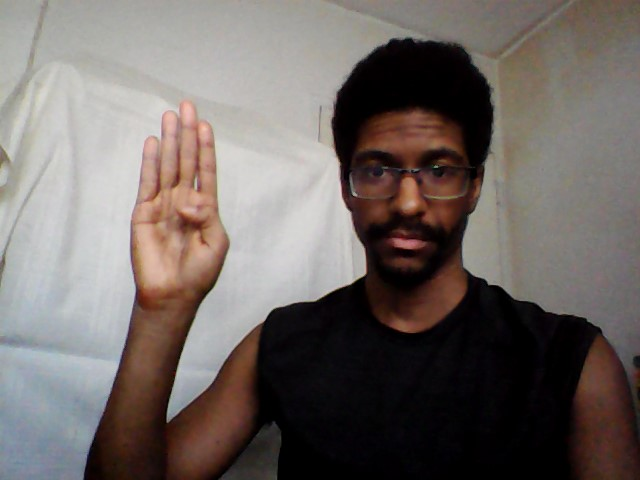b: (125, 97, 233, 310)
